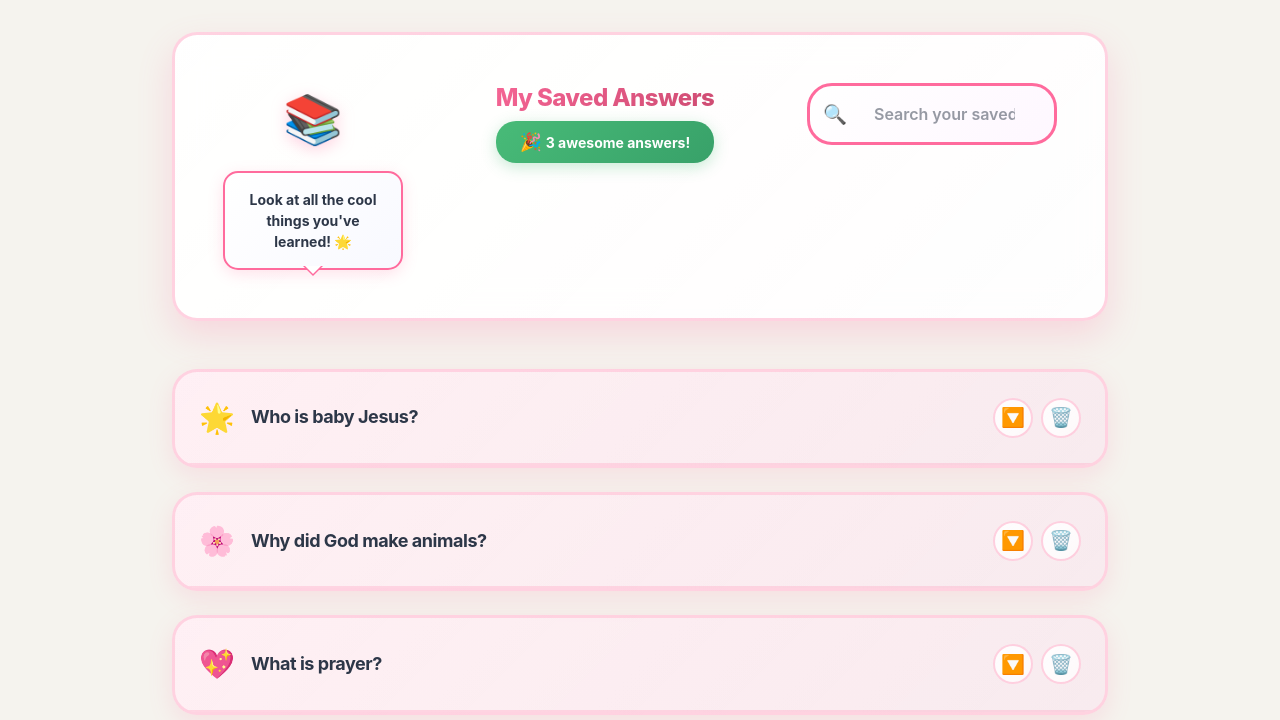
KidsSavedAnswers › clears search when clear button is clicked
Type "prayer" into the search field with class "kids-search-input".
click(932, 114); type("prayer")  # box left=807, top=83, right=1057, bottom=145
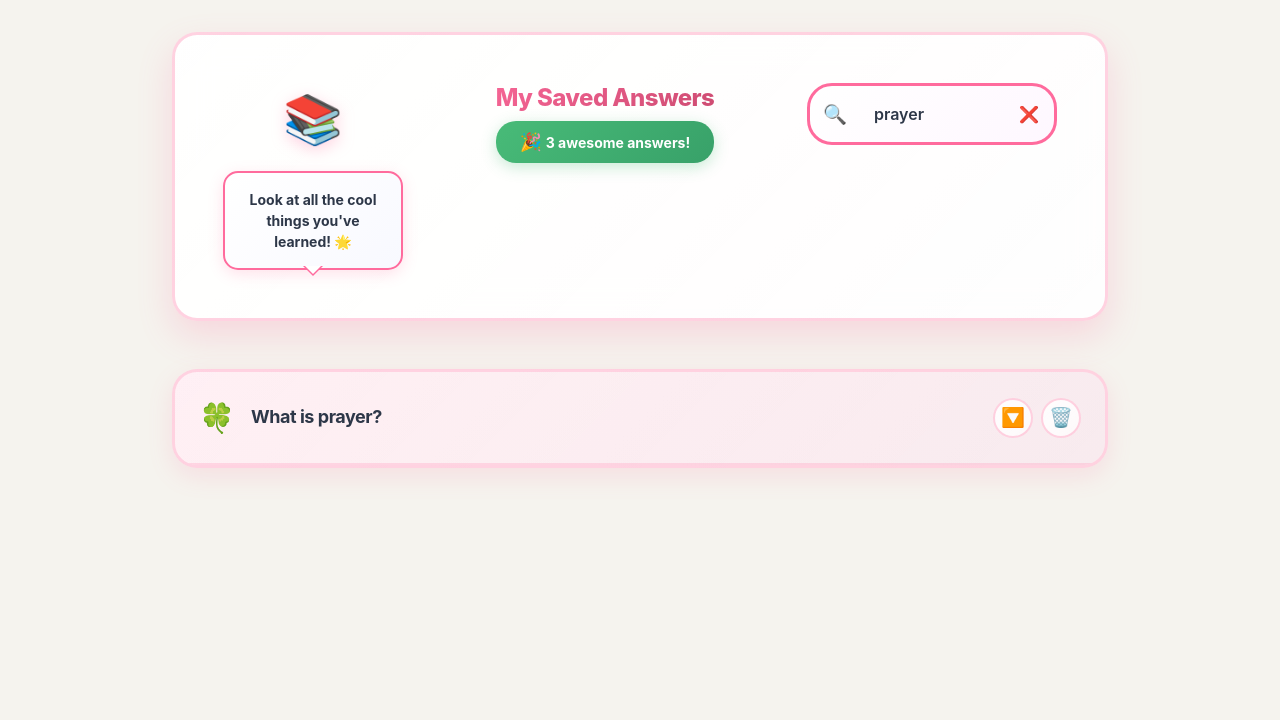
Now the number of elements with class "kids-answer-card" is 1, box left=172, top=369, right=1108, bottom=468
Click the button with class "search-clear".
click(1029, 114)  # box left=1017, top=102, right=1041, bottom=126
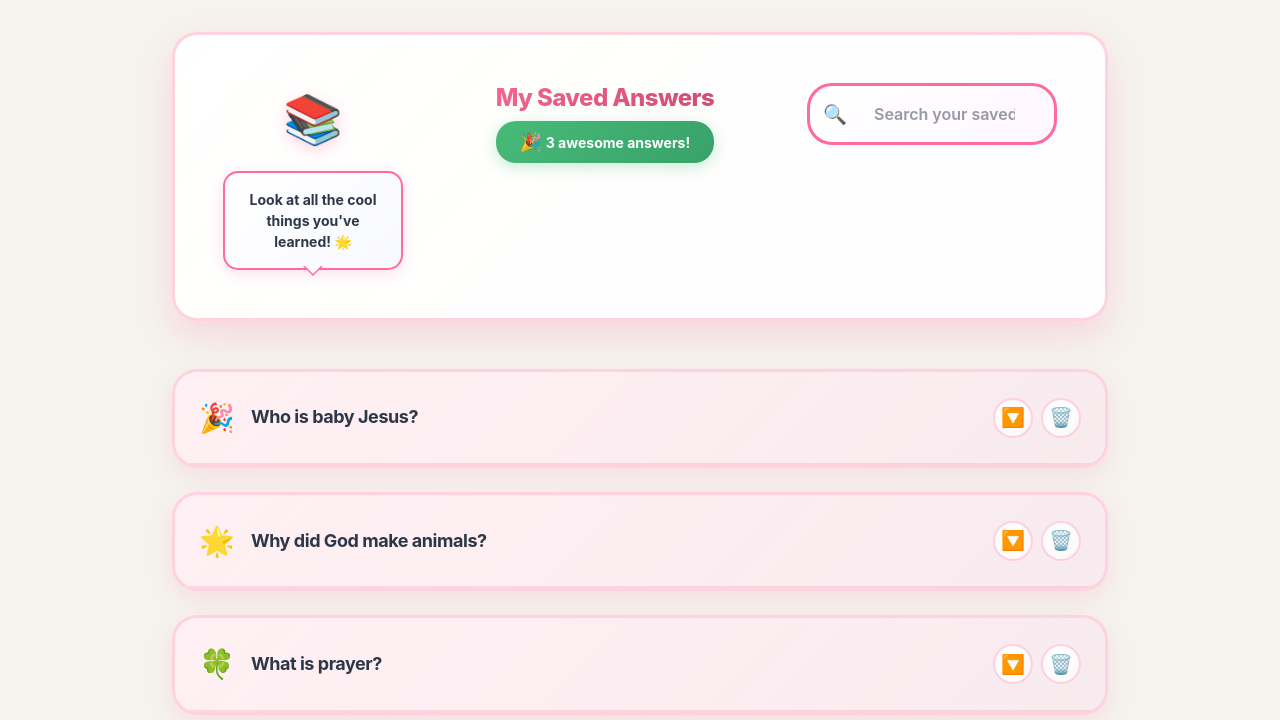
Now the number of elements with class "kids-answer-card" is 3, box left=172, top=369, right=1108, bottom=468; left=172, top=492, right=1108, bottom=591; left=172, top=615, right=1108, bottom=715
